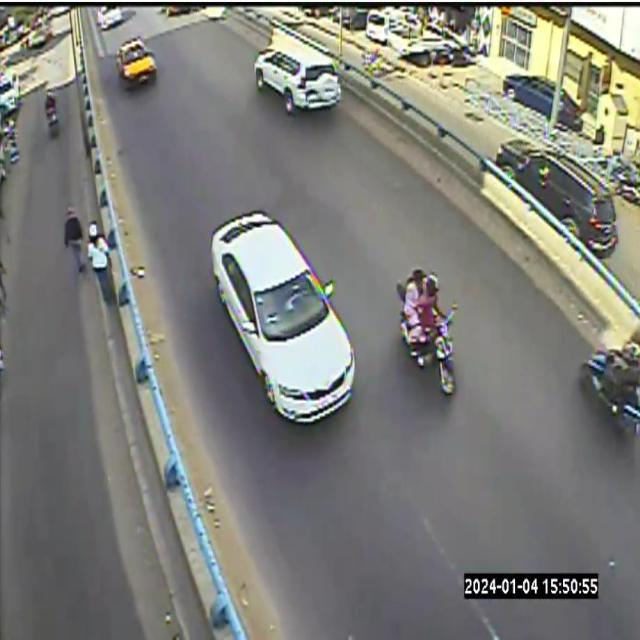car: (211, 210, 354, 422), (495, 139, 618, 257), (254, 30, 340, 113), (116, 39, 156, 88), (97, 5, 124, 31)
